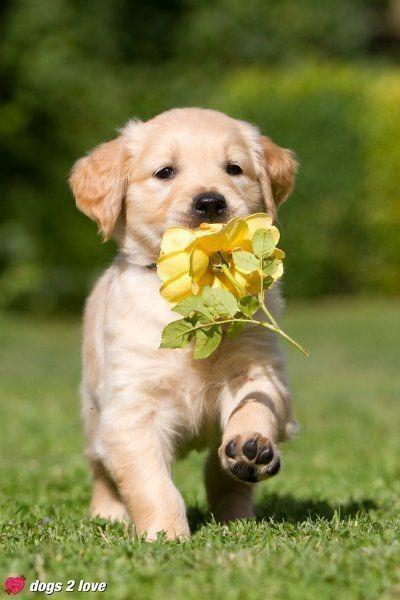puppy-dog: (65, 107, 304, 544)
